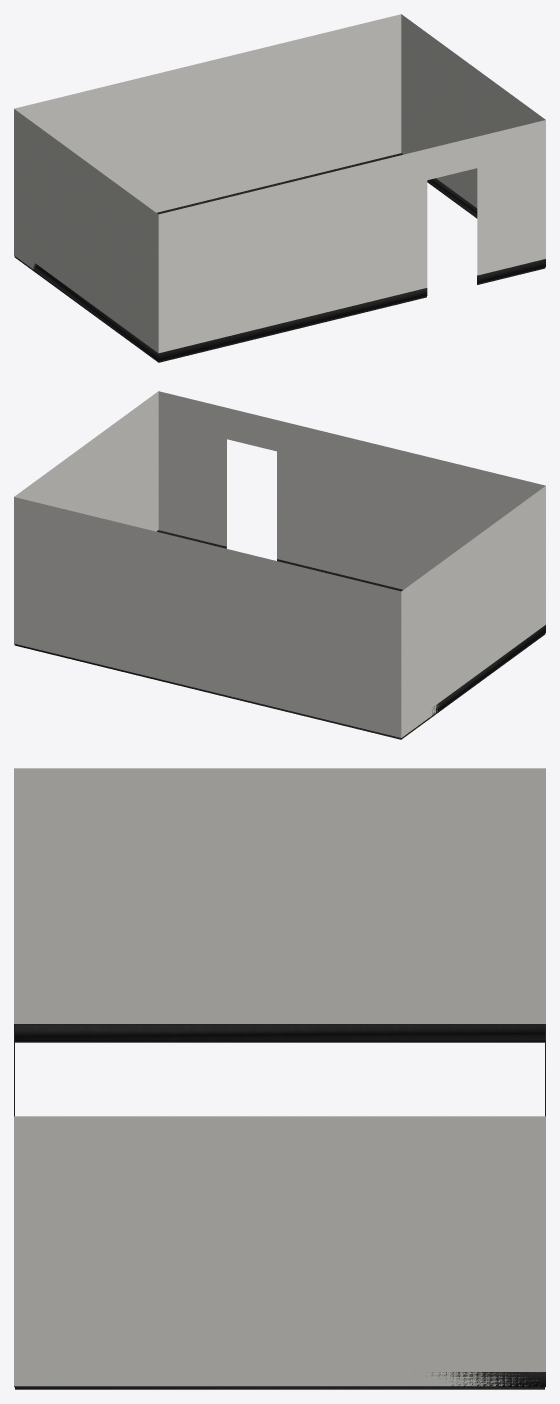
Rendered from TextureTest.glb.
3 views of the same model, one above another, from view 1: azimuth 30°, elevation 25°; view 2: azimuth 150°, elevation 25°; view 3: azimuth 270°, elevation 25° (orthographic). The views are drawn at different scales.
Parts seen in each view (by area): view 1: Plane.771, Plane.774; view 2: Plane.771, Plane.774; view 3: Plane.771, Plane.774.
Part boxes in pixels (x1,y1,x2,y2): Plane.771: (14,14,545,353); Plane.774: (14,153,545,362); Plane.771: (14,391,545,737); Plane.774: (14,530,545,739); Plane.771: (14,768,545,1386); Plane.774: (14,1024,545,1389).
Bounding box in the file's own units: 7.74 × 2.84 × 5.
2 materials, 2 textured.
